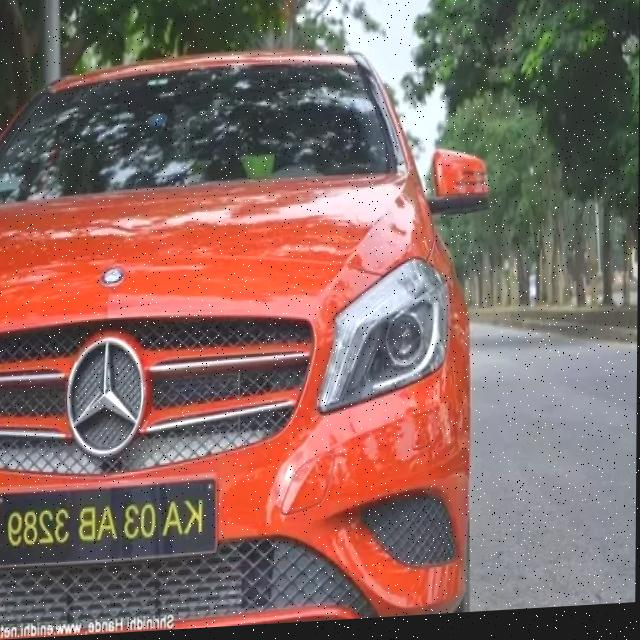plate: (0, 476, 221, 569)
